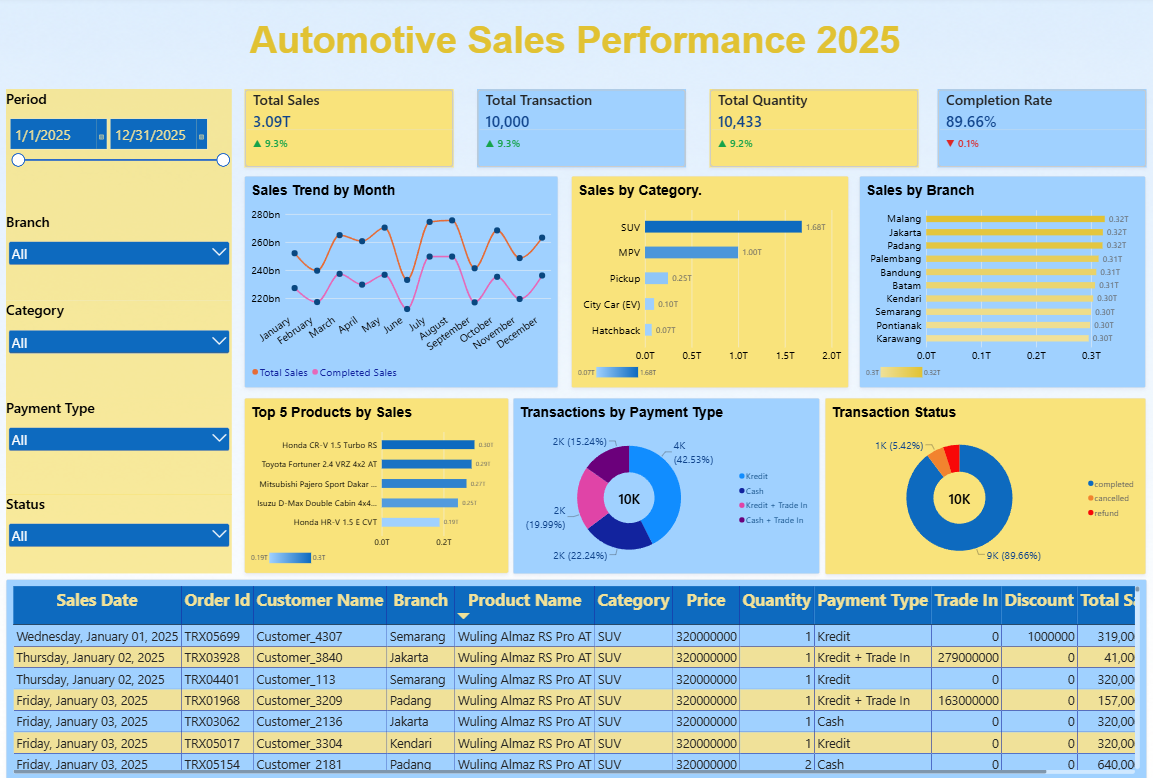

The page's visual inventory and layout, read from the dashboard file:
{"tool":"powerbi","page":{"name":"Page 1","canvas":[2250,1500],"ordinal":0},"visuals":[{"type":"slicer","title":"Period","fields":{"Values":["Sheet1.sales_date"]},"box":[27.8,177.8,431.7,235.2],"z":0},{"type":"slicer","title":"Branch","fields":{"Values":["Sheet1.branch"]},"box":[28,413,432,169],"z":1000},{"type":"slicer","title":"Category","fields":{"Values":["Sheet1.category"]},"box":[27.6,582.2,432,186.9],"z":2000},{"type":"slicer","title":"Payment Type","fields":{"Values":["Sheet1.payment_type"]},"box":[27.8,768.9,432.2,185.6],"z":3000},{"type":"slicer","title":"Status","fields":{"Values":["Sheet1.status"]},"box":[27.7,953.1,432.3,152.3],"z":4000},{"type":"cardVisual","title":"Total Sale","fields":{"Data":["Sheet1.Total Sales"]},"box":[485,177.5,400,150],"z":5000},{"type":"cardVisual","title":"Total Sale","fields":{"Data":["Sheet1.Total Transaction"]},"box":[930,177.5,400,150],"z":6000},{"type":"cardVisual","title":"Total Sale","fields":{"Data":["Sheet1.Total Quantity"]},"box":[1375,177.5,400,150],"z":7000},{"type":"cardVisual","title":"Total Sale","fields":{"Data":["Sheet1.Completion Rate"]},"box":[1810,177.5,400,150],"z":8000},{"type":"lineChart","title":"Sales Trend by Month","fields":{"Category":["Sheet1.sales_date.Variation.Date Hierarchy.Month"],"Y":["Sheet1.Total Sales","Sheet1.Completed Sales"]},"box":[485,345,600,405],"z":9000},{"type":"clusteredBarChart","title":"Sales by Category.","fields":{"Category":["Sheet1.category"],"Y":["Sheet1.Total Sales"]},"box":[1110,345,530,405],"z":10000},{"type":"clusteredBarChart","title":"Sales by Branch","fields":{"Category":["Sheet1.branch"],"Y":["Sheet1.Total Sales"]},"box":[1662.5,345,547.5,405],"z":11000},{"type":"clusteredBarChart","title":"Top 5 Products by Sales","fields":{"Category":["Sheet1.product_name"],"Y":["Sheet1.Total Sales"]},"box":[485.4,770,505.4,335.4],"z":12000},{"type":"donutChart","title":"Transactions by Payment Type","fields":{"Category":["Sheet1.payment_type"],"Y":["Sheet1.Total Transaction"]},"box":[1000,769,586.9,336.9],"z":13000},{"type":"donutChart","title":"Transaction Status","fields":{"Category":["Sheet1.status"],"Y":["Sheet1.Total Transaction"]},"box":[1596,768,614,337],"z":14000},{"type":"tableEx","fields":{"Values":["Sheet1.sales_date","Sheet1.order_id","Sheet1.customer_name","Sheet1.branch","Sheet1.product_name","Sheet1.category","Sheet1.price","Sheet1.quantity","Sheet1.payment_type","Sheet1.trade_in","Sheet1.discount","Sheet1.Total Sales"]},"box":[27.5,1115,2182.5,385],"z":15000},{"type":"textbox","box":[26.7,43.3,2183.3,85],"z":16000}]}

Visuals, with their boxes in screenshot pixels (x1, y1, x2, y2), scaled from the page's 2250x1500 canvas onto the 1153x778 screenshot:
"Period" slicer: crop(14, 92, 235, 214)
"Branch" slicer: crop(14, 214, 236, 302)
"Category" slicer: crop(14, 302, 236, 399)
"Payment Type" slicer: crop(14, 399, 236, 495)
"Status" slicer: crop(14, 494, 236, 573)
"Total Sale" cardVisual: crop(249, 92, 454, 170)
"Total Sale" cardVisual: crop(477, 92, 682, 170)
"Total Sale" cardVisual: crop(705, 92, 910, 170)
"Total Sale" cardVisual: crop(928, 92, 1133, 170)
"Sales Trend by Month" lineChart: crop(249, 179, 556, 389)
"Sales by Category." clusteredBarChart: crop(569, 179, 840, 389)
"Sales by Branch" clusteredBarChart: crop(852, 179, 1133, 389)
"Top 5 Products by Sales" clusteredBarChart: crop(249, 399, 508, 573)
"Transactions by Payment Type" donutChart: crop(512, 399, 813, 574)
"Transaction Status" donutChart: crop(818, 398, 1133, 573)
tableEx - Sheet1.sales_date x Sheet1.order_id: crop(14, 578, 1133, 777)
textbox: crop(14, 22, 1133, 67)
